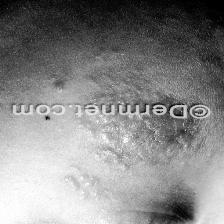Unclassified: (30, 117, 218, 197)
